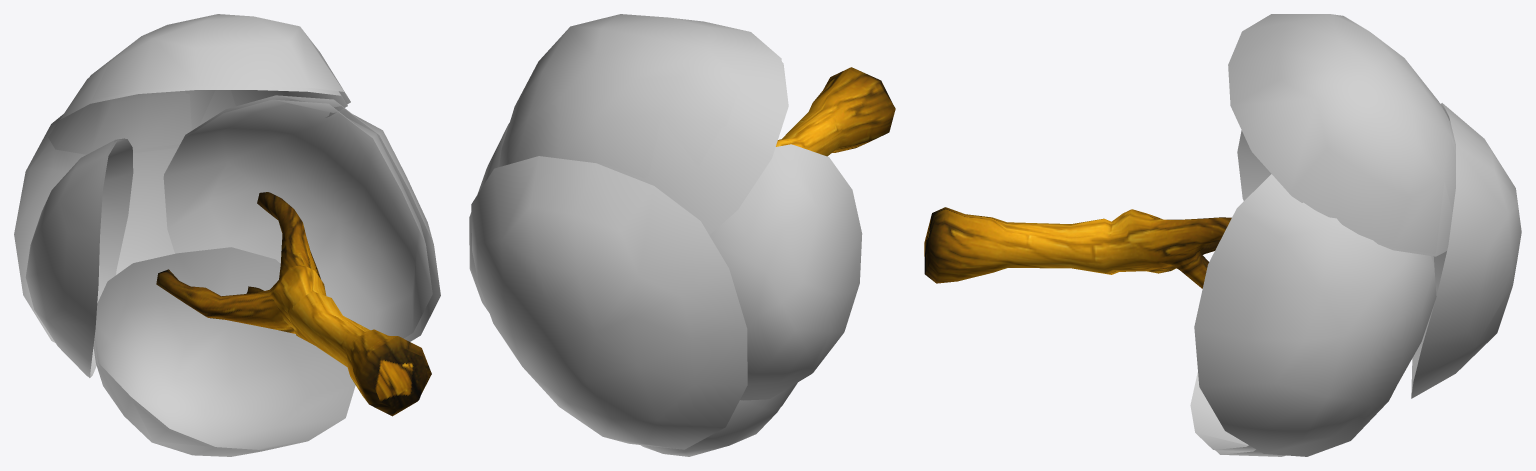
The model's file is tree03.fbx.
The picture shows the model from 3 angles, left to right: view 1: azimuth 30°, elevation 25°; view 2: azimuth 150°, elevation 25°; view 3: azimuth 270°, elevation 25°; orthographic projection. The views are drawn at different scales.
Visible parts, largest first — view 1: tree03; view 2: tree03; view 3: tree03.
Boxes of the visible parts, <box> form: tree03: <box>14,14,440,456</box>; tree03: <box>469,14,895,456</box>; tree03: <box>924,14,1521,456</box>.
Size of the model in its own units: 286 by 307 by 409.
